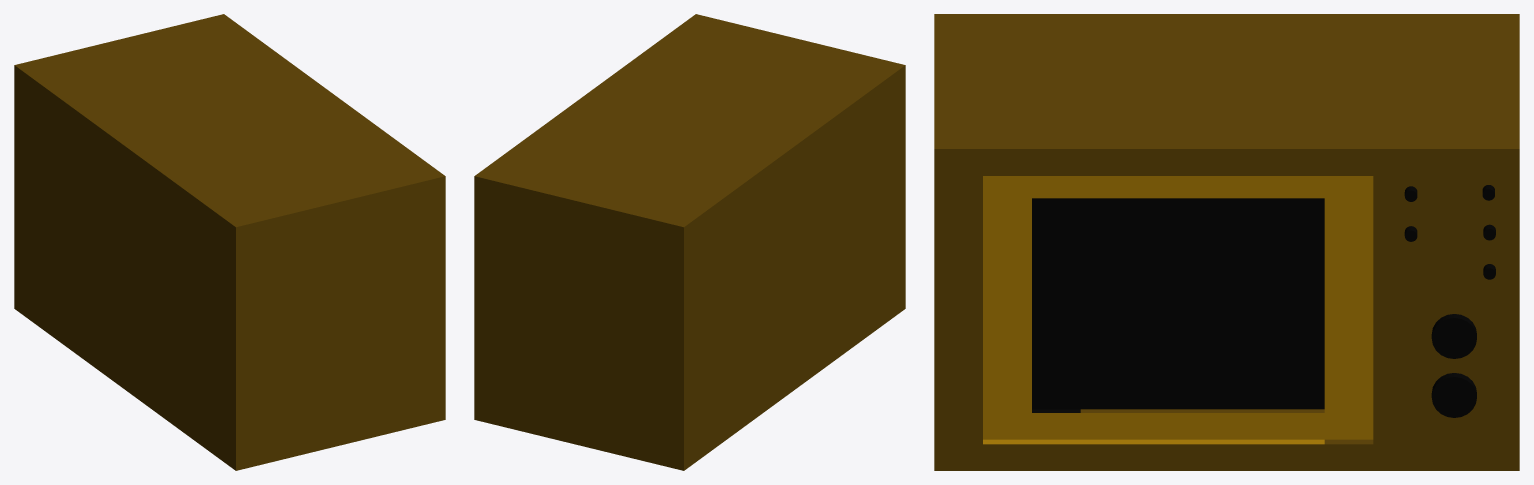
3 renders of one model, left to right at view 1: azimuth 30°, elevation 25°; view 2: azimuth 150°, elevation 25°; view 3: azimuth 270°, elevation 25°, orthographic. The views are drawn at different scales.
Visible parts, largest first — view 1: pCube4; view 2: pCube4; view 3: pCube4, pCylinder5, pCylinder10.
Boxes of the visible parts, <box> form: pCube4: <box>14,14,445,470</box>; pCube4: <box>474,14,905,470</box>; pCube4: <box>934,14,1519,470</box>; pCylinder5: <box>1431,373,1476,417</box>; pCylinder10: <box>1431,314,1476,358</box>.
Size of what is drawn, in the model's own units: 1.63 by 1.75 by 2.89.
